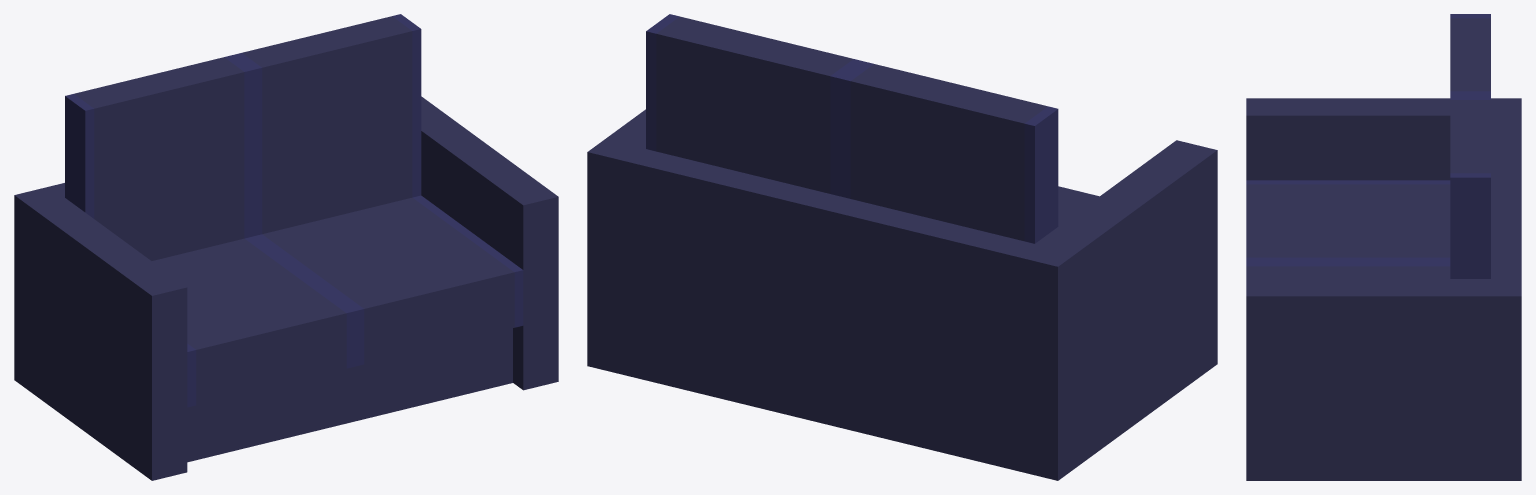
The model's file is couch.obj.
The picture shows the model from 3 angles, left to right: view 1: azimuth 30°, elevation 25°; view 2: azimuth 150°, elevation 25°; view 3: azimuth 270°, elevation 25°; orthographic projection. The views are drawn at different scales.
Size of the model in its own units: 4.6 by 3.1 by 2.7.
Materials: 1 (1 with a texture image).
